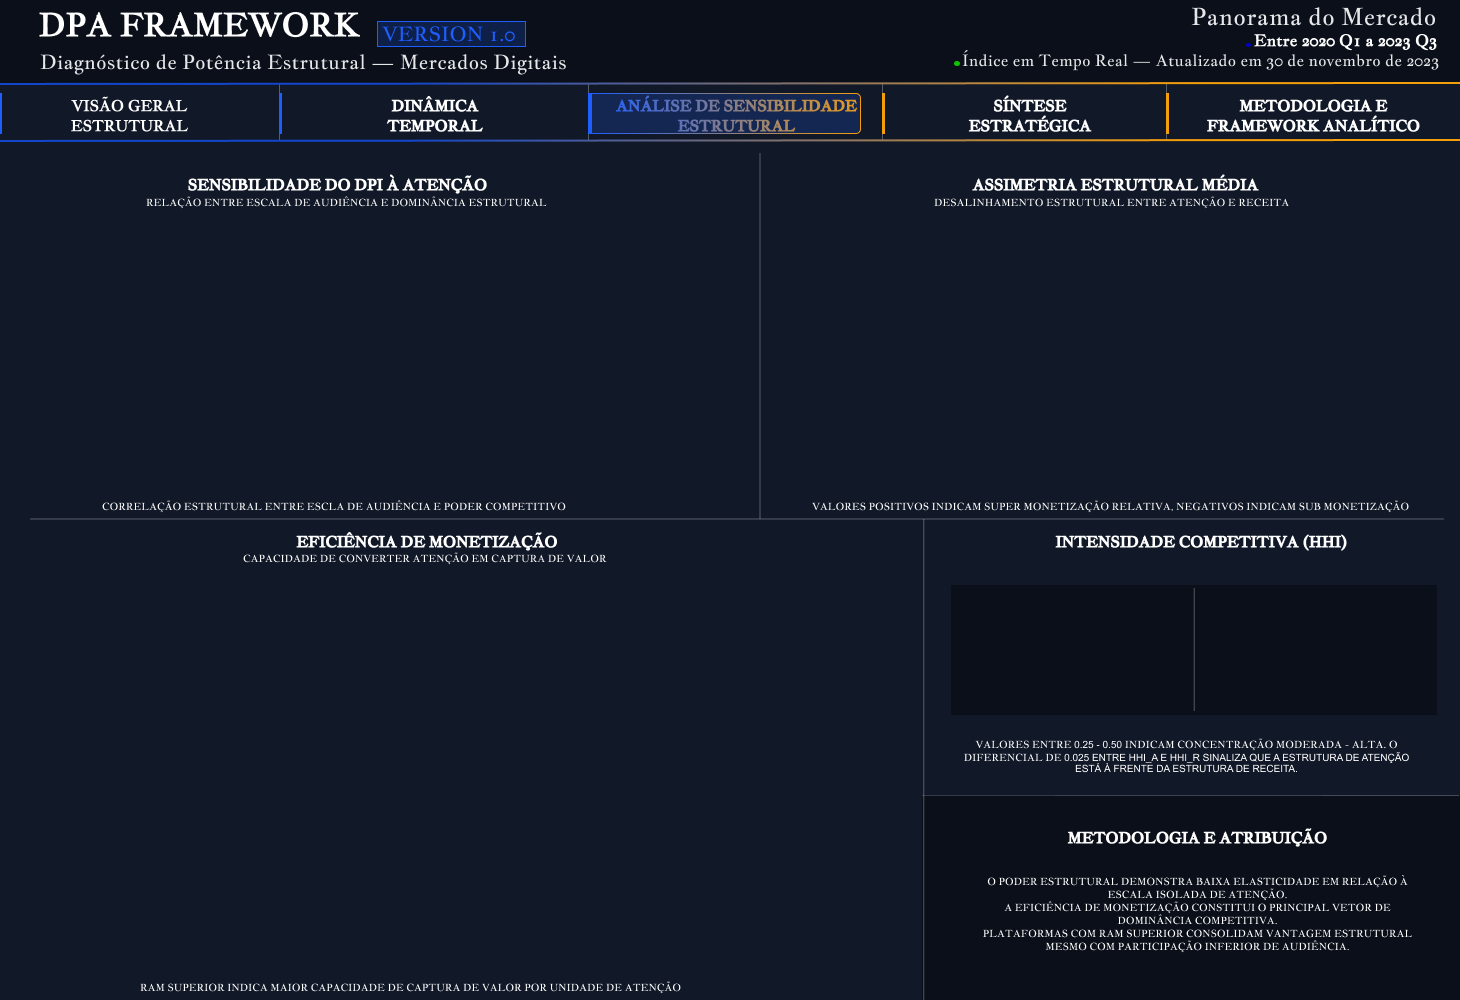

Layout of this report page (visuals, bound fields, positions):
{"tool":"powerbi","page":{"name":"ANÁLISE DE SENSIBILIDADE ESTRUTURAL","canvas":[1460,1000],"ordinal":2},"visuals":[{"type":"scatterChart","fields":{"X":["FATO_USUARIOS_TRIMESTRAL.Share_A"],"Y":["FATO_USUARIOS_TRIMESTRAL.DPI Score"],"Size":["FATO_USUARIOS_TRIMESTRAL.Share_R"],"Series":["DIM_PLATAFORMA.Plataforma"]},"box":[28.6,198.6,721.4,301.4],"z":0},{"type":"columnChart","fields":{"Category":["DIM_PLATAFORMA.Plataforma"],"Y":["FATO_USUARIOS_TRIMESTRAL.RAM"]},"box":[818.6,191.4,627.1,310],"z":1000},{"type":"cardVisual","title":"HHI A","fields":{"Data":["FATO_USUARIOS_TRIMESTRAL.HHI_A"]},"box":[960,587.1,224.3,122.9],"z":2000},{"type":"cardVisual","title":"HHI R","fields":{"Data":["FATO_USUARIOS_TRIMESTRAL.HHI_R"]},"box":[1214.3,587.1,201.4,122.9],"z":3000},{"type":"barChart","fields":{"Category":["DIM_PLATAFORMA.Plataforma"],"Y":["FATO_USUARIOS_TRIMESTRAL.Power Gap"]},"box":[28.6,581.4,852.9,394.3],"z":4000}]}

Visuals, with their boxes in screenshot pixels (x1, y1, x2, y2), scaled from the page's 1460x1000 canvas onto the 1460x1000 screenshot:
scatterChart - FATO_USUARIOS_TRIMESTRAL.Share_A x FATO_USUARIOS_TRIMESTRAL.DPI Score: pyautogui.locateOnScreen(29, 199, 750, 500)
columnChart - DIM_PLATAFORMA.Plataforma x FATO_USUARIOS_TRIMESTRAL.RAM: pyautogui.locateOnScreen(819, 191, 1446, 501)
"HHI A" cardVisual: pyautogui.locateOnScreen(960, 587, 1184, 710)
"HHI R" cardVisual: pyautogui.locateOnScreen(1214, 587, 1416, 710)
barChart - DIM_PLATAFORMA.Plataforma x FATO_USUARIOS_TRIMESTRAL.Power Gap: pyautogui.locateOnScreen(29, 581, 882, 976)
